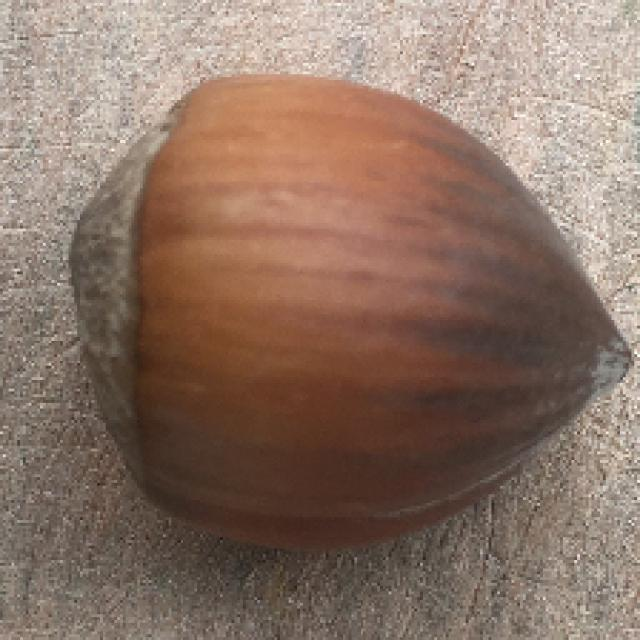qualityHazelnut: (66, 75, 640, 552)
